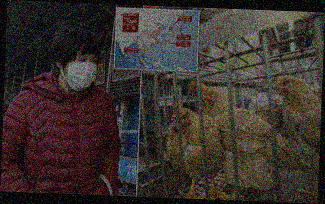with_mask: (63, 52, 101, 92)
